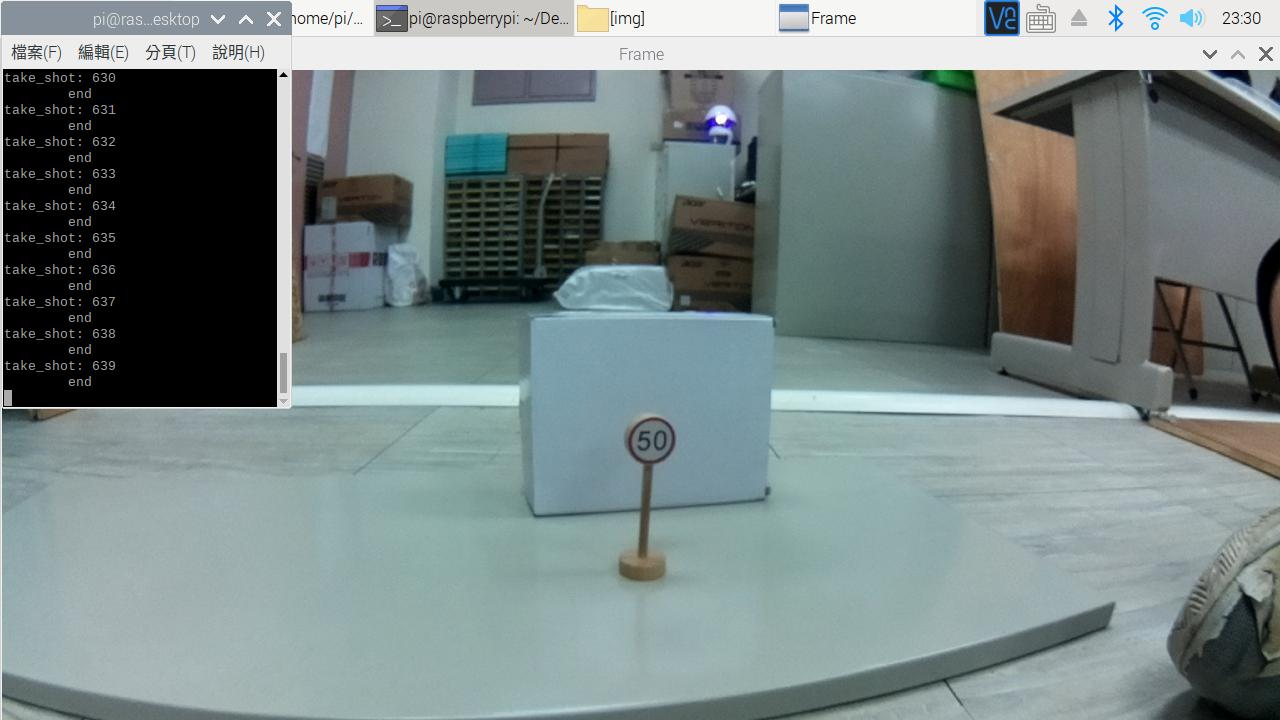Speed50: (617, 411, 682, 473)
